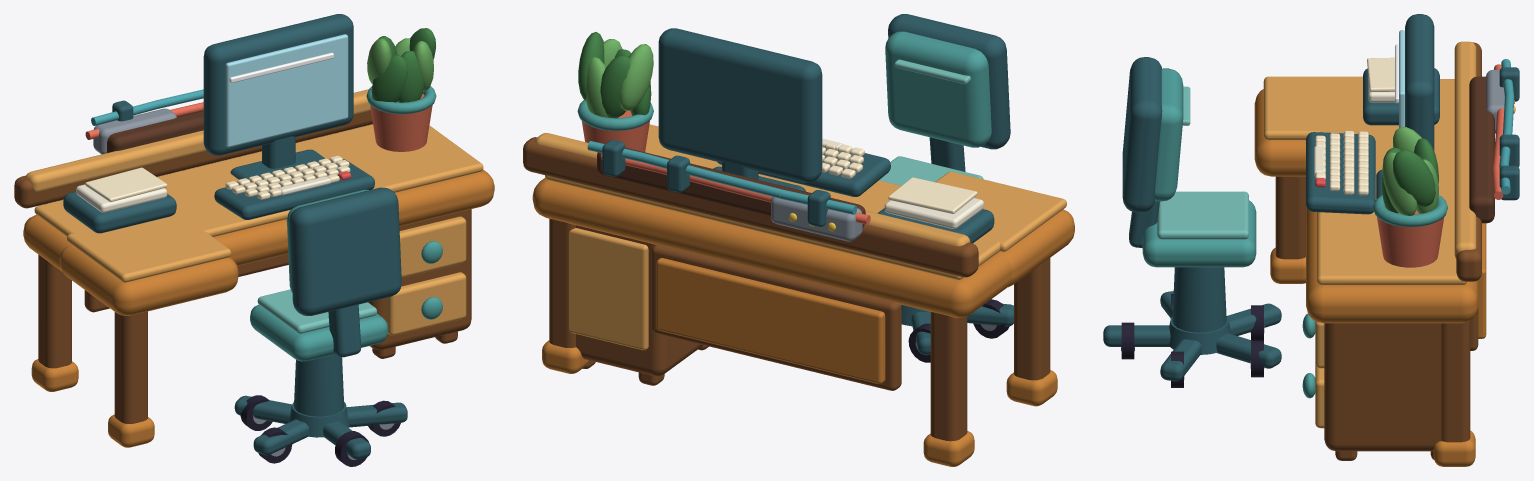
Rendered from office-workstation.glb.
3 renders of one model, left to right at view 1: azimuth 30°, elevation 25°; view 2: azimuth 150°, elevation 25°; view 3: azimuth 270°, elevation 25°, orthographic. The views are drawn at different scales.
Visible parts, largest first — view 1: rounded-shallow-wrap-desk-and-open-legroom-surface-4, adjustable-task-chair-with-five-spoke-base-surface-9, monitor-blank-screen-and-stand-surface-2, rounded-shallow-wrap-desk-and-open-legroom-surface-0, monitor-blank-screen-and-stand-surface-0, rounded-shallow-wrap-desk-and-open-legroom-surface-2, rounded-shallow-wrap-desk-and-open-legroom-surface-6, rounded-shallow-wrap-desk-and-open-legroom-surface-26, rounded-shallow-wrap-desk-and-open-legroom-surface-12, rounded-shallow-wrap-desk-and-open-legroom-surface-8, two-drawer-storage-pedestal-and-finished-back-surface-8, adjustable-task-chair-with-five-spoke-base-surface-4 (+32 smaller); view 2: monitor-blank-screen-and-stand-surface-0, rounded-shallow-wrap-desk-and-open-legroom-surface-0, rounded-shallow-wrap-desk-and-open-legroom-surface-22, adjustable-task-chair-with-five-spoke-base-surface-11, rounded-shallow-wrap-desk-and-open-legroom-surface-24, two-drawer-storage-pedestal-and-finished-back-surface-12, rounded-shallow-wrap-desk-and-open-legroom-surface-20, rounded-shallow-wrap-desk-and-open-legroom-surface-4, rounded-shallow-wrap-desk-and-open-legroom-surface-8, adjustable-task-chair-with-five-spoke-base-surface-9, rounded-shallow-wrap-desk-and-open-legroom-surface-12, two-drawer-storage-pedestal-and-finished-back-surface-0 (+26 smaller); view 3: two-drawer-storage-pedestal-and-finished-back-surface-0, rounded-shallow-wrap-desk-and-open-legroom-surface-4, rounded-shallow-wrap-desk-and-open-legroom-surface-0, adjustable-task-chair-with-five-spoke-base-surface-9, rounded-shallow-wrap-desk-and-open-legroom-surface-6, adjustable-task-chair-with-five-spoke-base-surface-6, rounded-shallow-wrap-desk-and-open-legroom-surface-26, adjustable-task-chair-with-five-spoke-base-surface-4, monitor-blank-screen-and-stand-surface-0, rounded-shallow-wrap-desk-and-open-legroom-surface-16, adjustable-task-chair-with-five-spoke-base-surface-0, open-rear-cable-channel-two-cables-and-power-strip-surface-0 (+28 smaller).
Part boxes in pixels (x1=…): rounded-shallow-wrap-desk-and-open-legroom-surface-4: x1=34, y1=124, x2=483, y2=254; adjustable-task-chair-with-five-spoke-base-surface-9: x1=289, y1=187, x2=401, y2=315; monitor-blank-screen-and-stand-surface-2: x1=225, y1=34, x2=348, y2=147; rounded-shallow-wrap-desk-and-open-legroom-surface-0: x1=23, y1=169, x2=494, y2=271; monitor-blank-screen-and-stand-surface-0: x1=203, y1=14, x2=353, y2=155; rounded-shallow-wrap-desk-and-open-legroom-surface-2: x1=59, y1=245, x2=238, y2=315; rounded-shallow-wrap-desk-and-open-legroom-surface-6: x1=66, y1=212, x2=231, y2=282; rounded-shallow-wrap-desk-and-open-legroom-surface-26: x1=26, y1=89, x2=370, y2=192; rounded-shallow-wrap-desk-and-open-legroom-surface-12: x1=114, y1=311, x2=147, y2=423; rounded-shallow-wrap-desk-and-open-legroom-surface-8: x1=38, y1=254, x2=71, y2=368; two-drawer-storage-pedestal-and-finished-back-surface-8: x1=387, y1=272, x2=466, y2=335; adjustable-task-chair-with-five-spoke-base-surface-4: x1=250, y1=304, x2=388, y2=361; monitor-blank-screen-and-stand-surface-0: x1=658, y1=28, x2=822, y2=182; rounded-shallow-wrap-desk-and-open-legroom-surface-0: x1=532, y1=178, x2=1011, y2=317; rounded-shallow-wrap-desk-and-open-legroom-surface-22: x1=656, y1=258, x2=885, y2=383; adjustable-task-chair-with-five-spoke-base-surface-11: x1=885, y1=31, x2=991, y2=147; rounded-shallow-wrap-desk-and-open-legroom-surface-24: x1=523, y1=137, x2=978, y2=277; two-drawer-storage-pedestal-and-finished-back-surface-12: x1=569, y1=228, x2=648, y2=350; rounded-shallow-wrap-desk-and-open-legroom-surface-20: x1=651, y1=244, x2=901, y2=390; rounded-shallow-wrap-desk-and-open-legroom-surface-4: x1=545, y1=124, x2=1029, y2=279; rounded-shallow-wrap-desk-and-open-legroom-surface-8: x1=930, y1=312, x2=967, y2=441; adjustable-task-chair-with-five-spoke-base-surface-9: x1=888, y1=14, x2=1010, y2=149; rounded-shallow-wrap-desk-and-open-legroom-surface-12: x1=1014, y1=258, x2=1050, y2=380; two-drawer-storage-pedestal-and-finished-back-surface-0: x1=576, y1=225, x2=703, y2=376; two-drawer-storage-pedestal-and-finished-back-surface-0: x1=1324, y1=323, x2=1441, y2=451; rounded-shallow-wrap-desk-and-open-legroom-surface-4: x1=1317, y1=79, x2=1466, y2=284; rounded-shallow-wrap-desk-and-open-legroom-surface-0: x1=1306, y1=205, x2=1478, y2=323; adjustable-task-chair-with-five-spoke-base-surface-9: x1=1122, y1=57, x2=1162, y2=212; rounded-shallow-wrap-desk-and-open-legroom-surface-6: x1=1263, y1=76, x2=1383, y2=139; adjustable-task-chair-with-five-spoke-base-surface-6: x1=1157, y1=191, x2=1248, y2=239; rounded-shallow-wrap-desk-and-open-legroom-surface-26: x1=1454, y1=41, x2=1476, y2=258; adjustable-task-chair-with-five-spoke-base-surface-4: x1=1142, y1=200, x2=1256, y2=267; monitor-blank-screen-and-stand-surface-0: x1=1405, y1=14, x2=1434, y2=150; rounded-shallow-wrap-desk-and-open-legroom-surface-16: x1=1441, y1=320, x2=1470, y2=442; adjustable-task-chair-with-five-spoke-base-surface-0: x1=1172, y1=267, x2=1226, y2=332; open-rear-cable-channel-two-cables-and-power-strip-surface-0: x1=1469, y1=76, x2=1494, y2=223.
Bounding box in the file's own units: 1.75 × 1.3 × 1.43.
